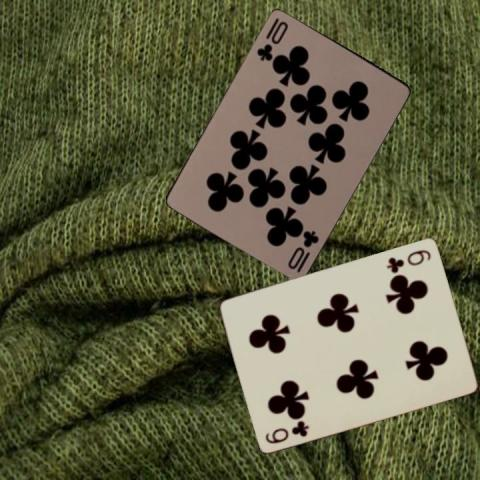10c: (253, 14, 290, 62), (284, 227, 321, 274)
6c: (262, 416, 311, 444), (384, 246, 433, 273)
